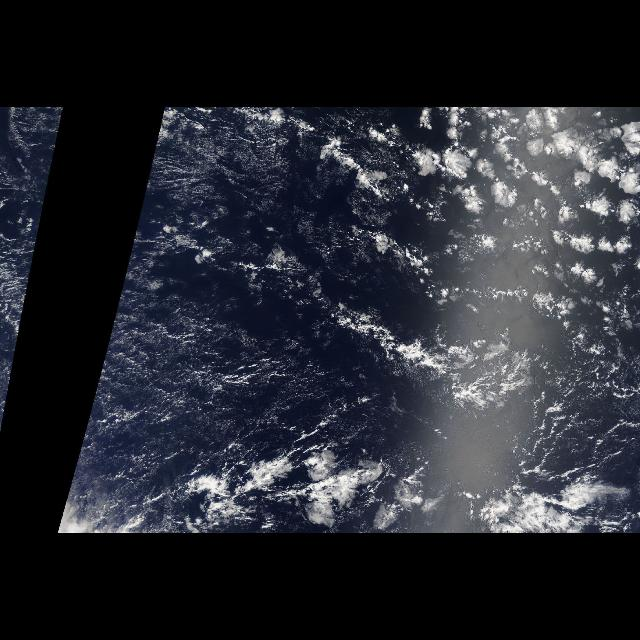Flower: (326, 107, 640, 350)
Sugar: (66, 108, 327, 500), (0, 109, 64, 434)
